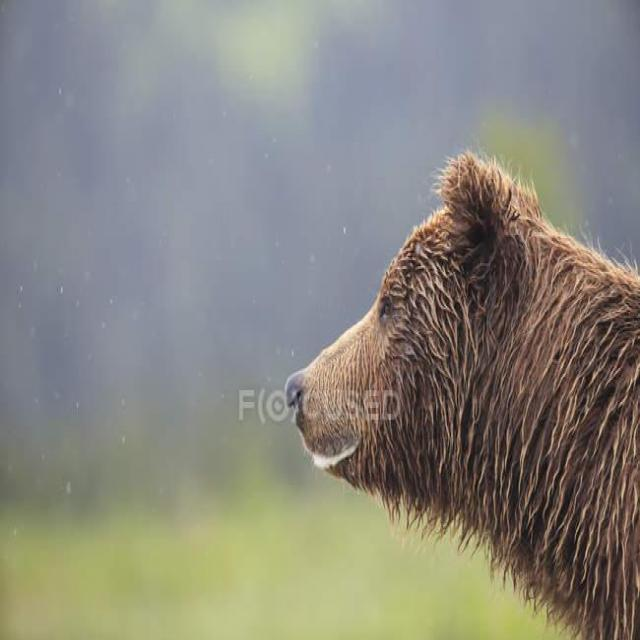Bear: (265, 152, 640, 640)
